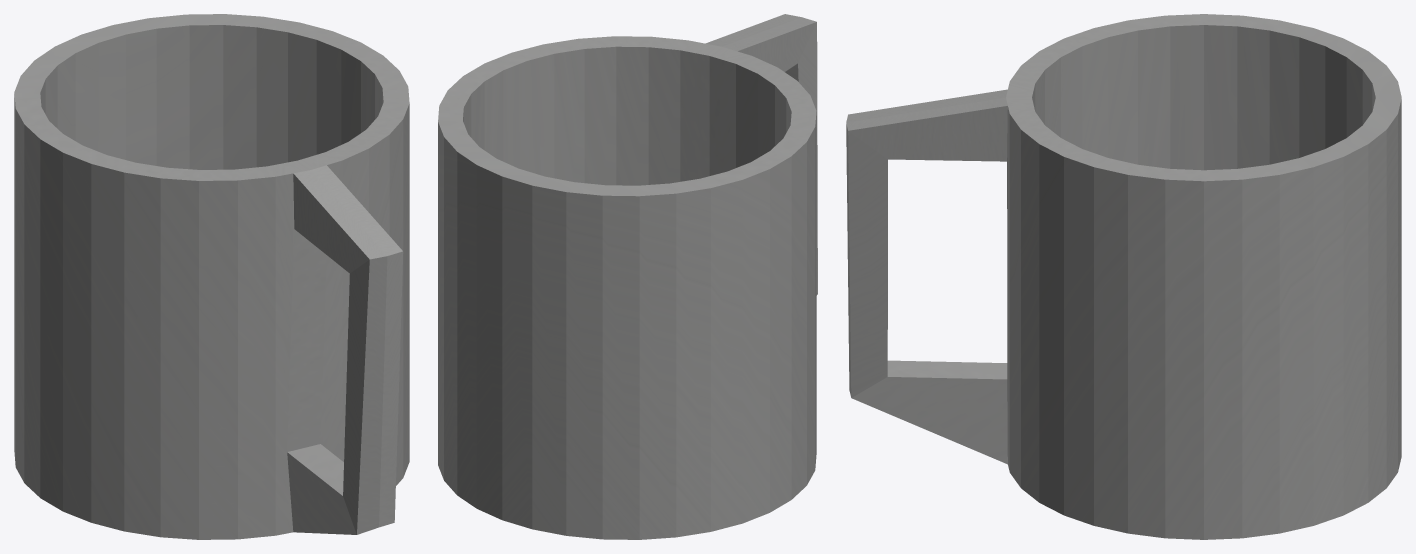
File: cup.glb
3 views of the same model, side by side, from view 1: azimuth 30°, elevation 25°; view 2: azimuth 150°, elevation 25°; view 3: azimuth 270°, elevation 25° (orthographic). The views are drawn at different scales.
Parts seen in each view (by area): view 1: Cylinder; view 2: Cylinder; view 3: Cylinder.
Part boxes in pixels (x1,y1,x2,y2): Cylinder: (14,14,409,539); Cylinder: (438,14,817,539); Cylinder: (846,14,1401,539).
Bounding box in the file's own units: 2 × 2 × 2.81.
Materials: 1 (1 with a texture image).
